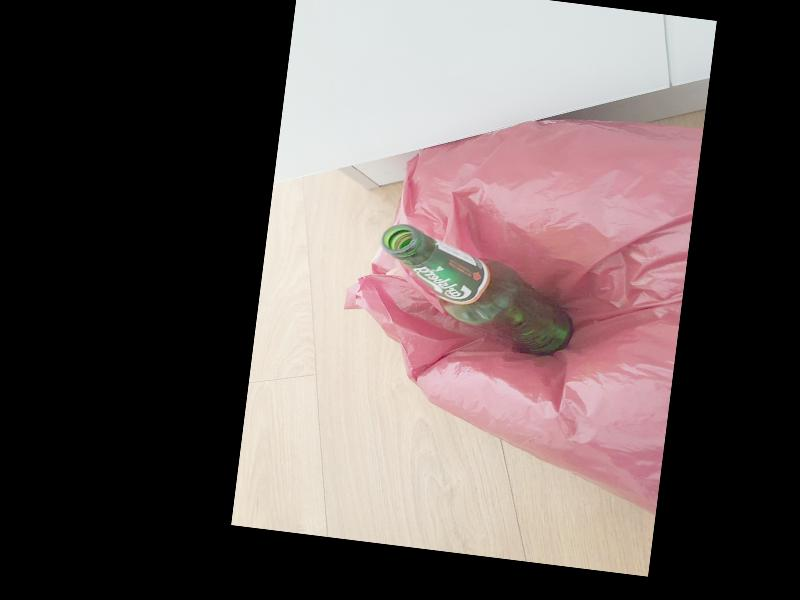Beer: (368, 222, 580, 360)
